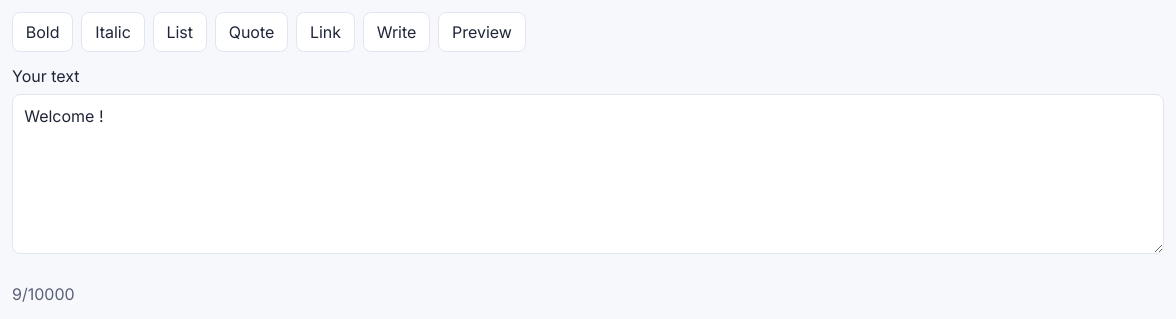
Scenario: lets typing replace an inserted placeholder at the current cursor
This screenshot has width=1176, height=319.
Step 1. Click the button "Italic" → click(113, 32), box [81, 12, 145, 52]
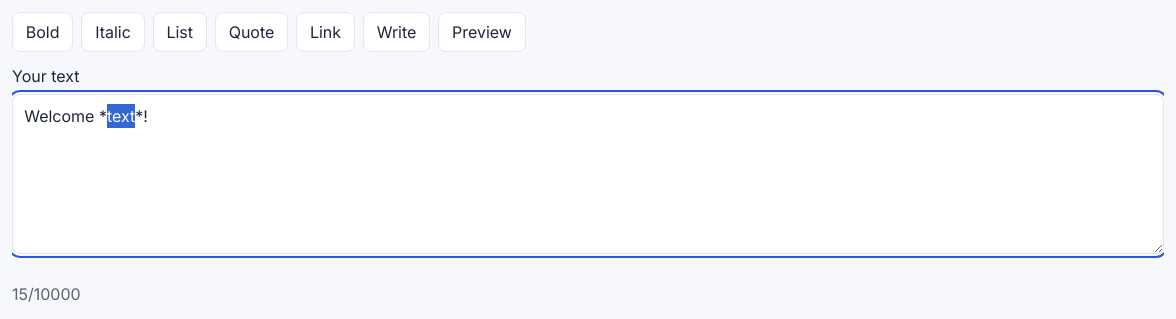
Expected: the text box labelled "Your text" holds "Welcome *text*!", [12, 94, 1164, 254]
